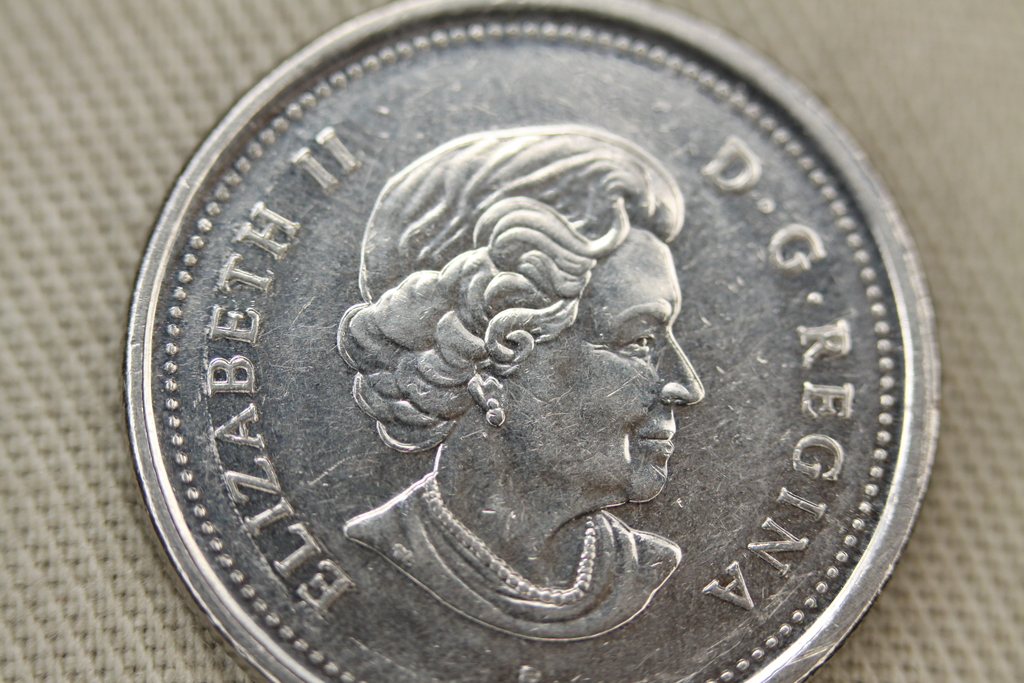Coin: (123, 0, 942, 682)
